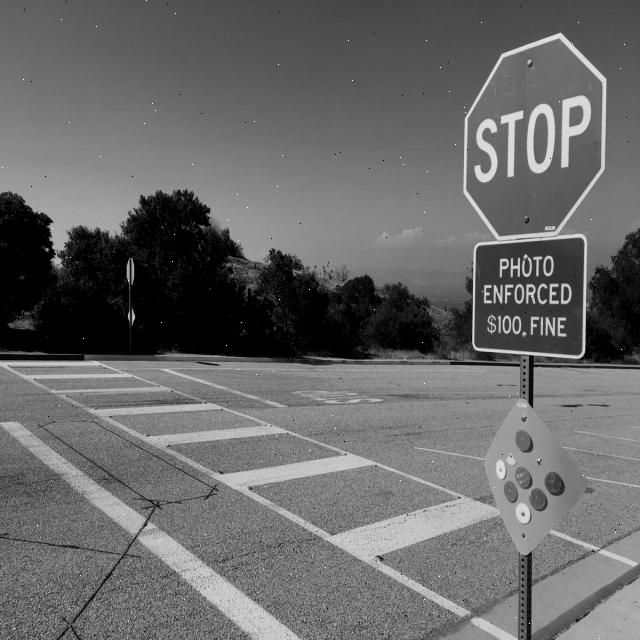Stop-sign: (455, 20, 619, 249)
